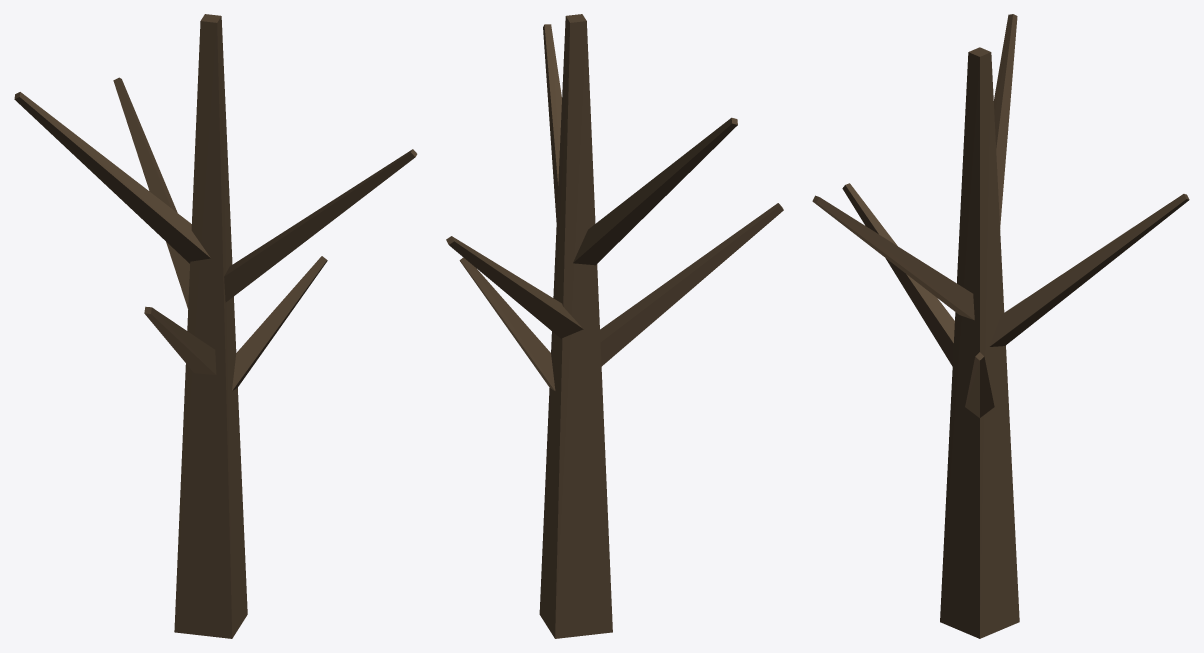
The model's file is dead_tree_large-far.glb.
3 renders of one model, left to right at view 1: azimuth 30°, elevation 25°; view 2: azimuth 150°, elevation 25°; view 3: azimuth 270°, elevation 25°, orthographic. The views are drawn at different scales.
Visible parts, largest first — view 1: world-scenery/dead_tree_large-far; view 2: world-scenery/dead_tree_large-far; view 3: world-scenery/dead_tree_large-far.
Part boxes in pixels (left/top/right/bottom): world-scenery/dead_tree_large-far: left=14, top=14, right=417, bottom=638; world-scenery/dead_tree_large-far: left=446, top=14, right=783, bottom=638; world-scenery/dead_tree_large-far: left=812, top=14, right=1189, bottom=638.
Size of the model in its own units: 2.72 by 5.25 by 3.15.
